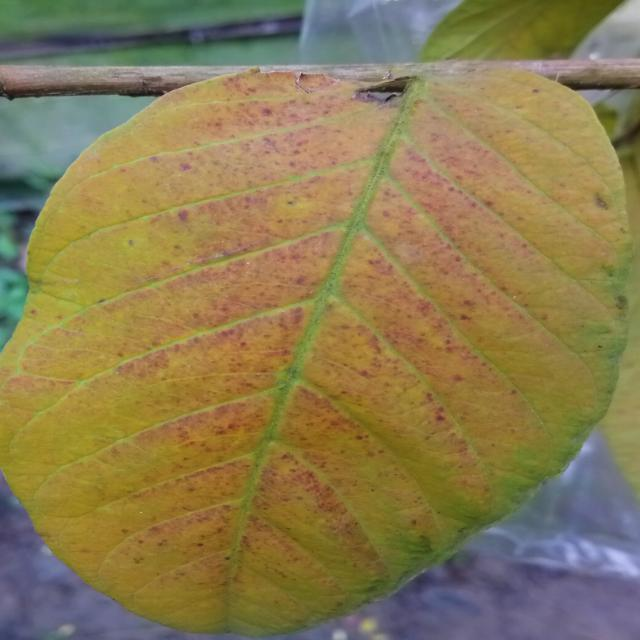Red Rust: (2, 69, 631, 635)
